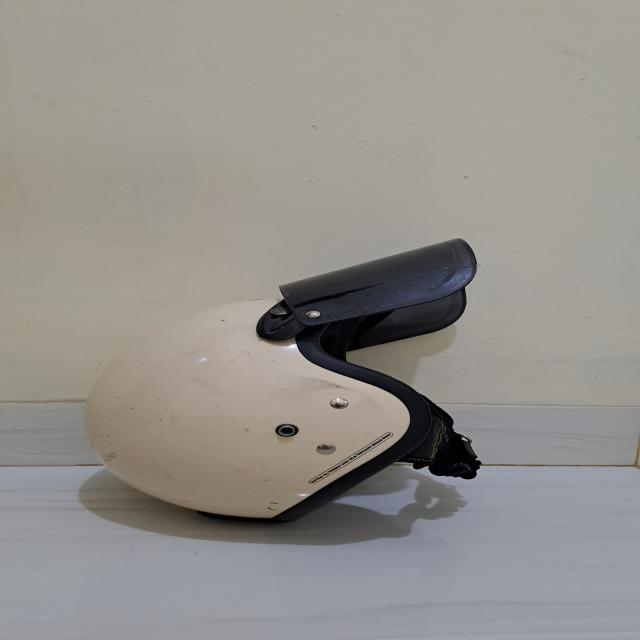Helm: (63, 228, 496, 538)
